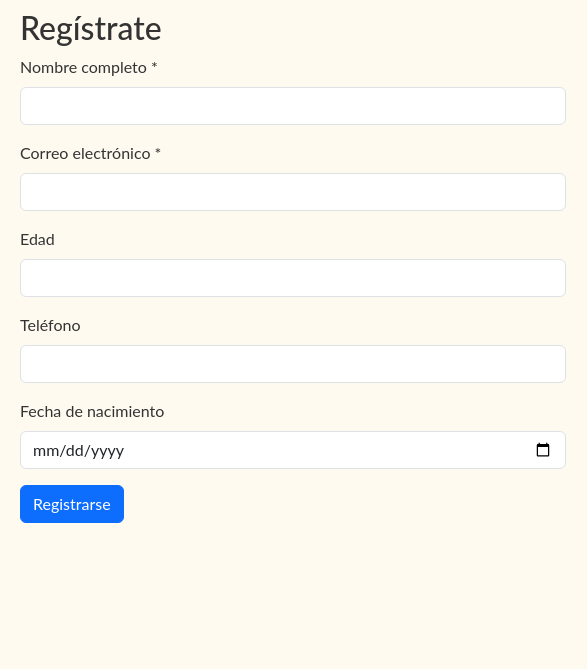
Test: Registro Component › debería mostrar error si el teléfono no tiene 9 dígitos
Type "12345" into the field labelled "Teléfono". click: [293, 364]
box: [20,345,566,383]
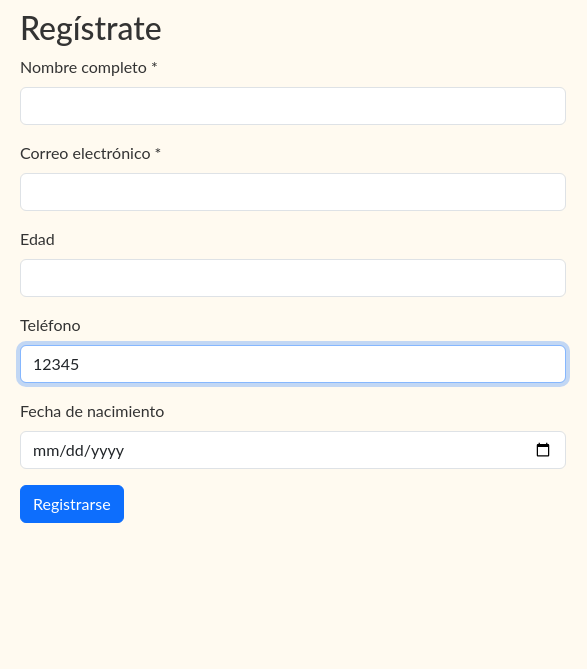
Click the button "Registrarse". click: [72, 504]
box: [20,485,124,523]
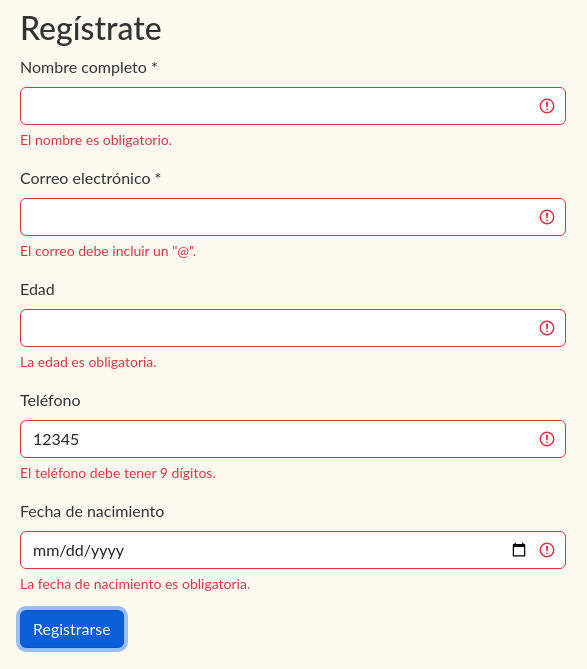
Now the text "El teléfono debe tener 9 dígitos." is shown, box [20,464,216,481]
